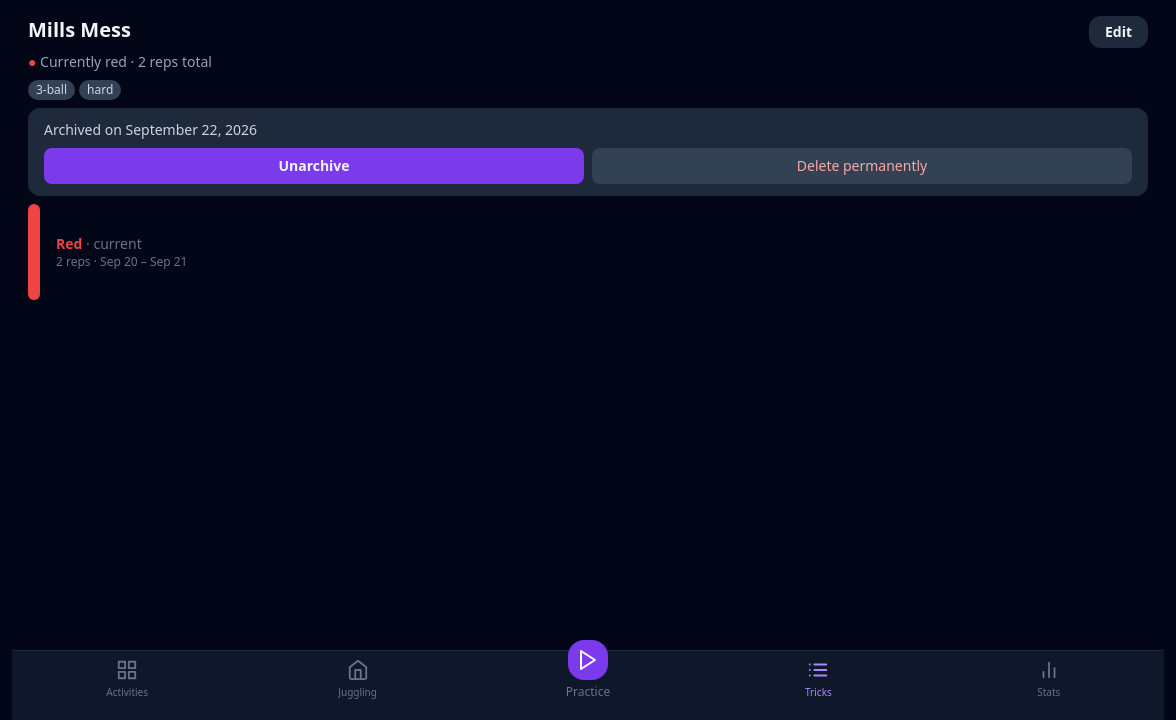
archiving › an archived item can be unarchived from its page
Expected: the text "Archived on September 22, 2026" is shown, [44, 120, 257, 139]
Click the button "Unarchive".
click(314, 166)  # box [44, 148, 584, 184]
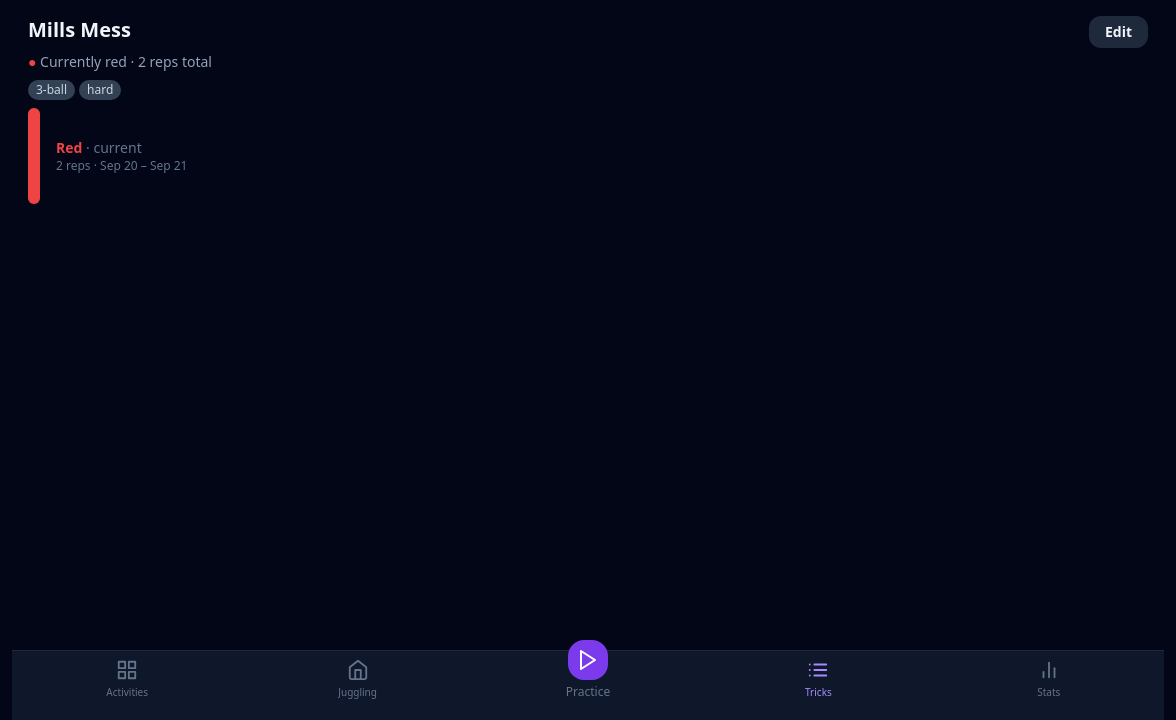
Expected: the text "Archived on" is gone
